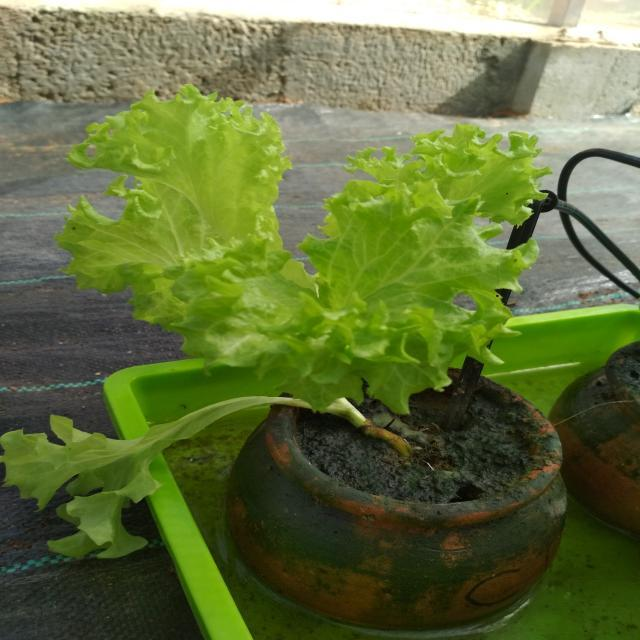Lettuce-Not-Ready-to-Harvest: (0, 85, 545, 558)
